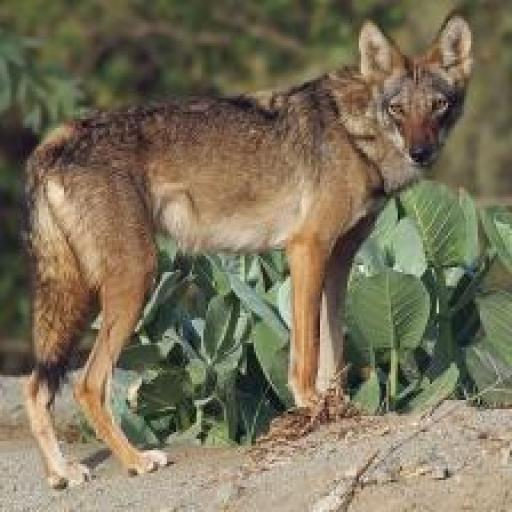wolf: (0, 2, 512, 505)
